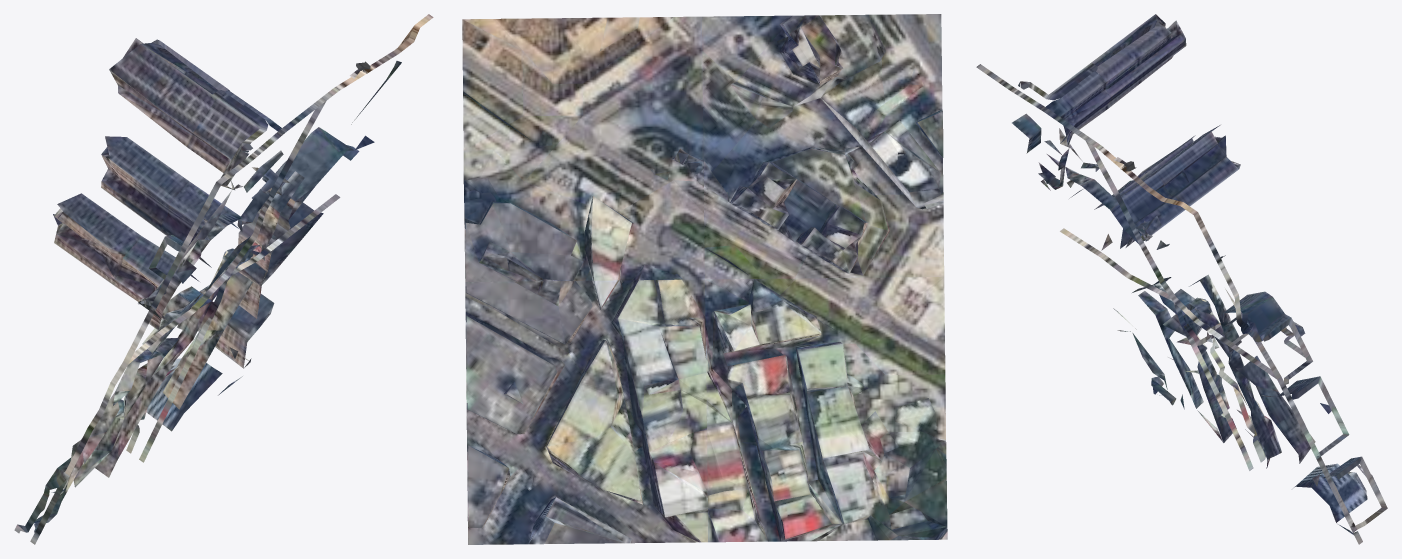
The picture shows the model from 3 angles, left to right: view 1: azimuth 30°, elevation 25°; view 2: azimuth 150°, elevation 25°; view 3: azimuth 270°, elevation 25°; orthographic projection. The views are drawn at different scales.
Bounding box in the file's own units: 312 × 320 × 276.
2 materials, 2 textured.
